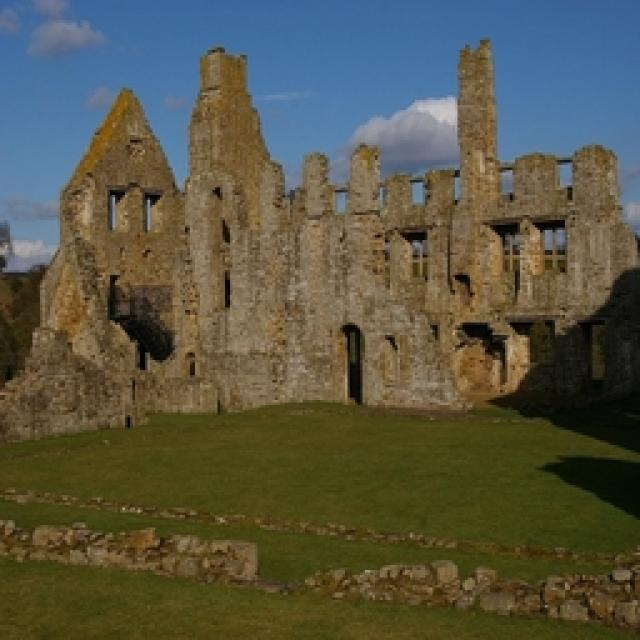Abbey: (13, 92, 640, 440)
